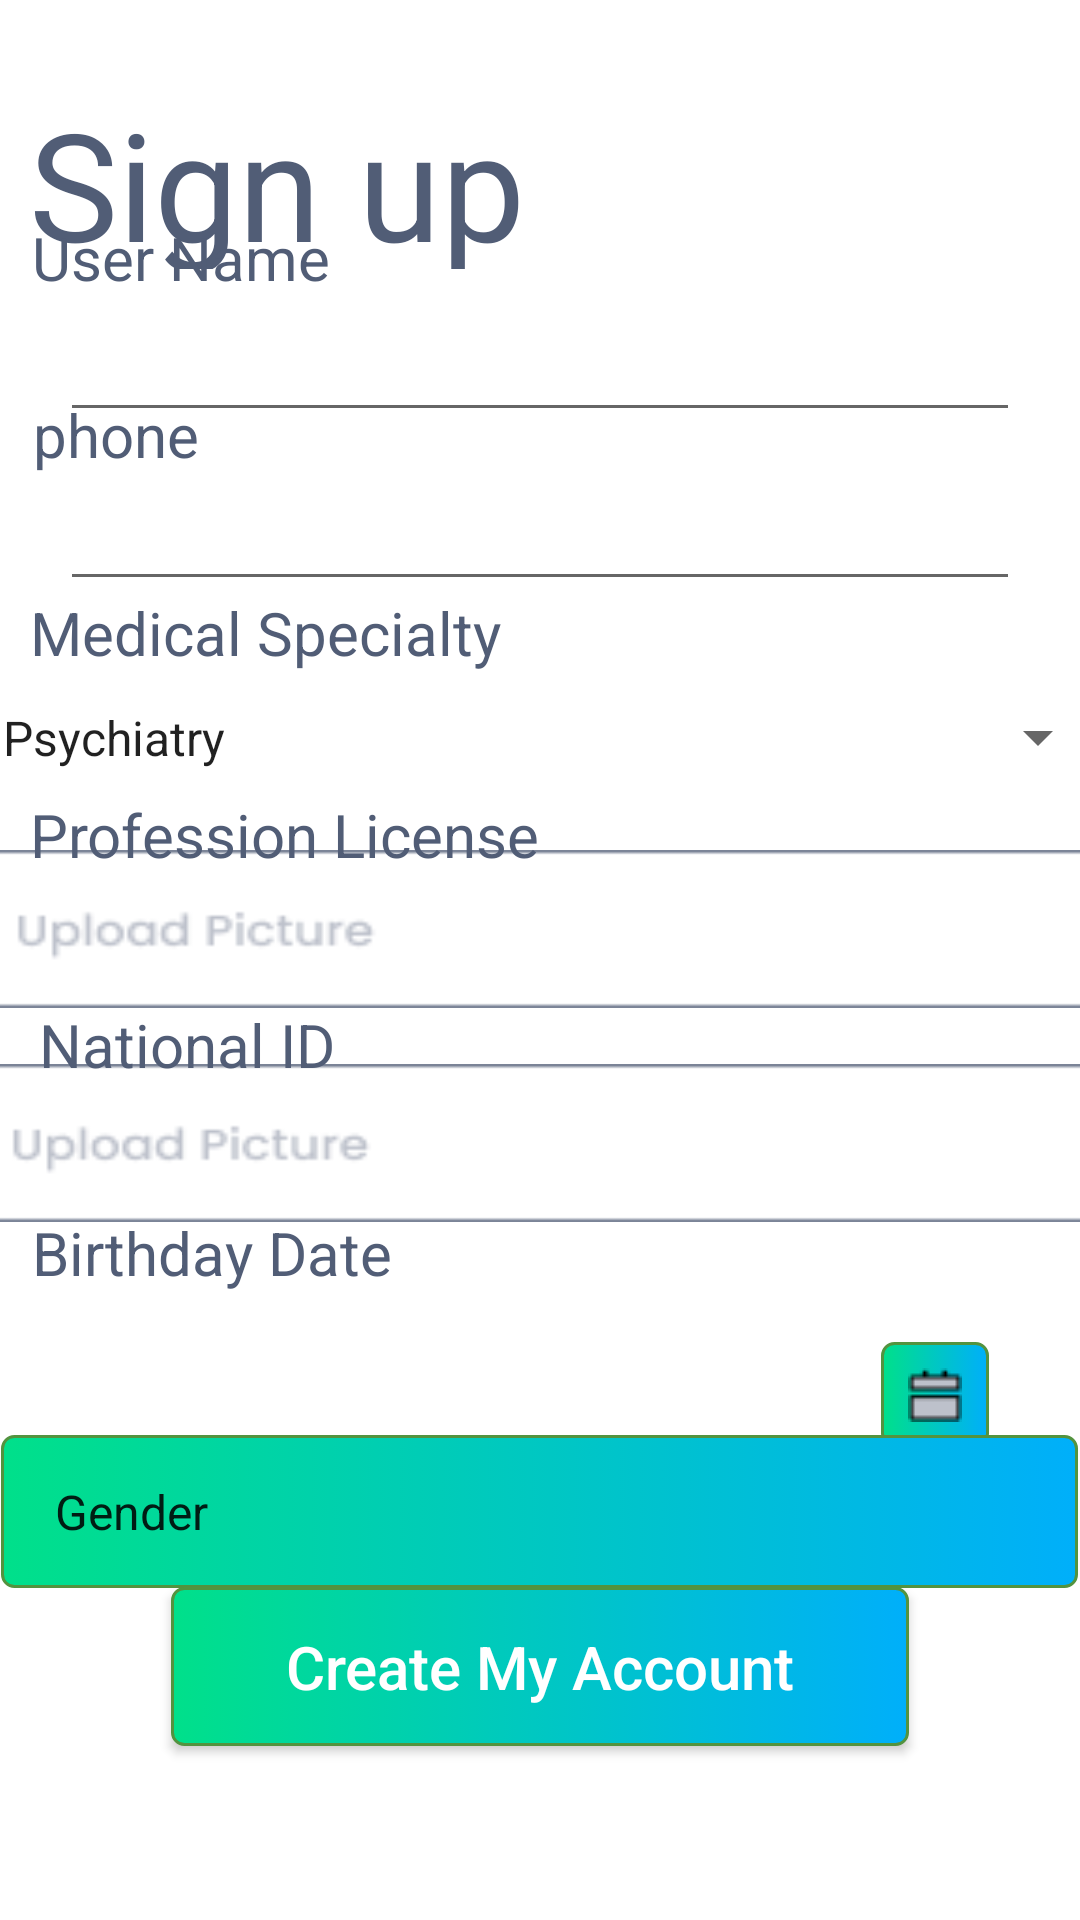

Icon bounding boxes for this 1080px×1920px phone screenshot, format (x1, y1, x2, y2):
calendarvector: (881, 1342, 989, 1447)
